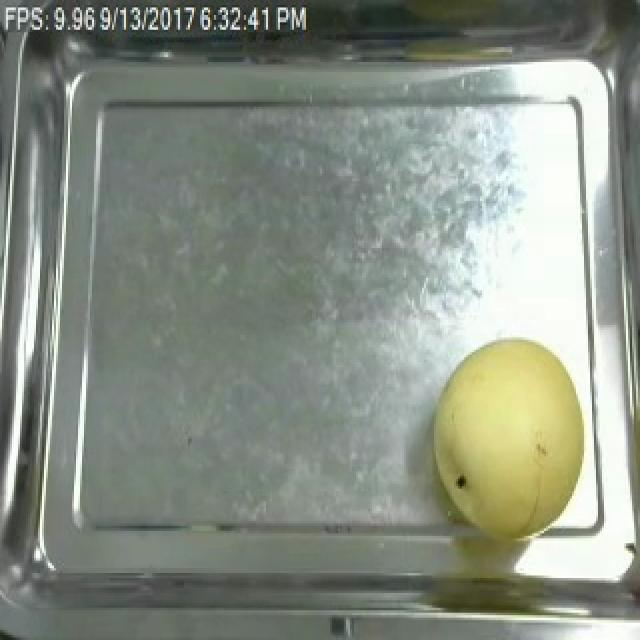Fruit: (424, 330, 602, 543)
